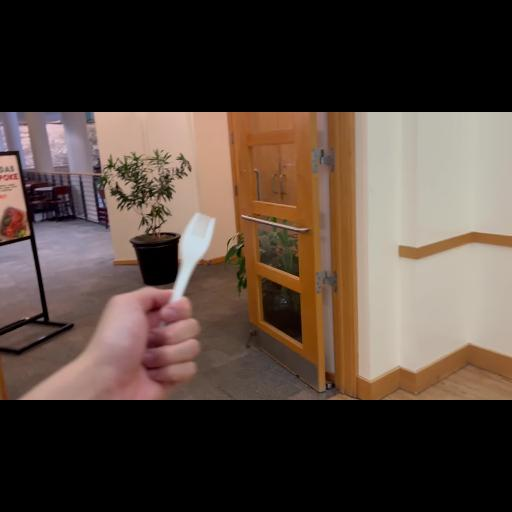utensil: (166, 206, 220, 312)
